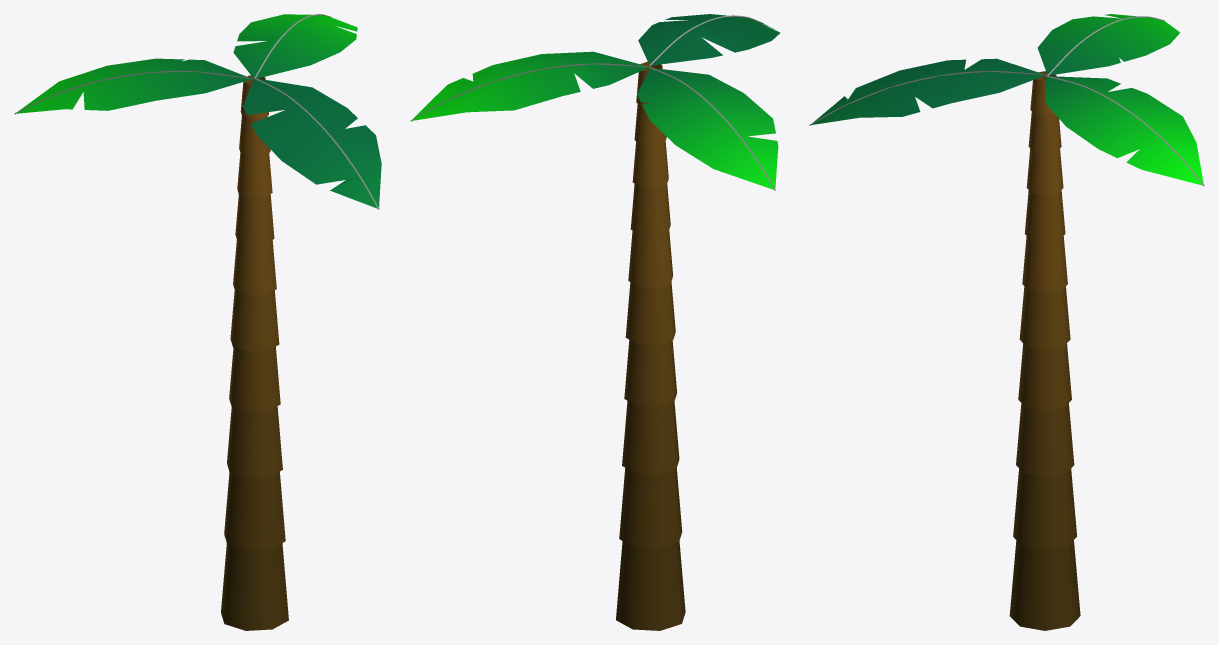
Rendered from PalmTree300.FBX.
3 views of the same model, side by side, from view 1: azimuth 30°, elevation 25°; view 2: azimuth 150°, elevation 25°; view 3: azimuth 270°, elevation 25° (orthographic). The views are drawn at different scales.
Visible parts, largest first — view 1: Cylinder003; view 2: Cylinder003; view 3: Cylinder003.
Boxes of the visible parts, x1,y1,x2,y2 form: Cylinder003: (16, 14, 381, 630); Cylinder003: (412, 14, 780, 630); Cylinder003: (810, 14, 1203, 630).
Size of the model in its own units: 482 by 745 by 486.
10 materials, 9 textured.
